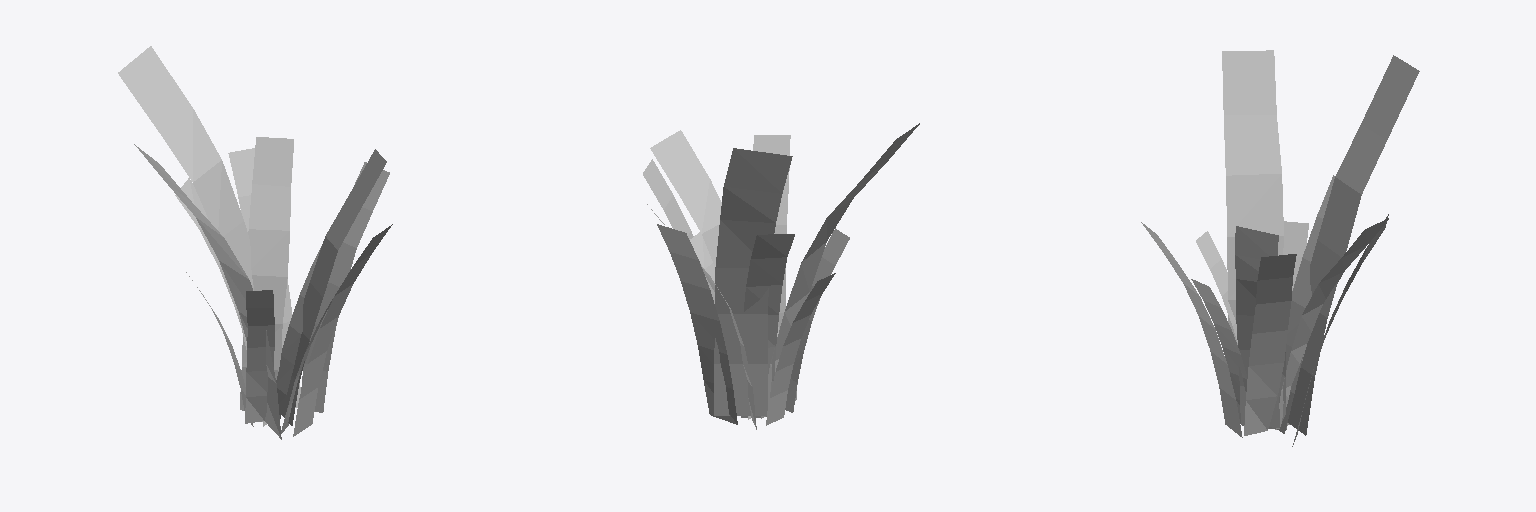
The model's file is grass.obj.
3 renders of one model, left to right at view 1: azimuth 30°, elevation 25°; view 2: azimuth 150°, elevation 25°; view 3: azimuth 270°, elevation 25°, orthographic.
Parts seen in each view (by area): view 1: Foliage01_col; view 2: Foliage01_col; view 3: Foliage01_col.
Boxes of the visible parts, x1=… form: Foliage01_col: x1=118, y1=46, x2=392, y2=439; Foliage01_col: x1=643, y1=123, x2=919, y2=429; Foliage01_col: x1=1141, y1=50, x2=1419, y2=446.
Size of the model in its own units: 0.6356 by 0.8155 by 0.6161.